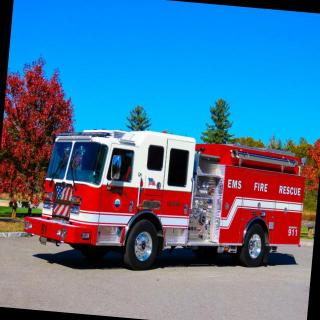Fire_truck: (20, 118, 310, 284)
